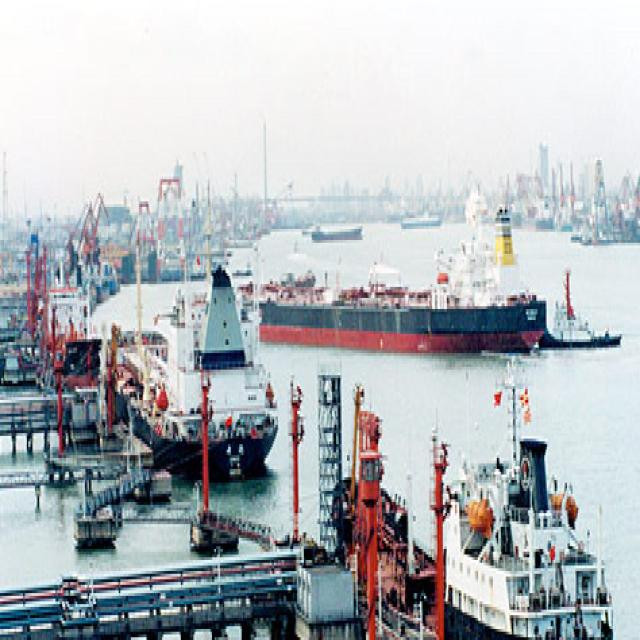cargoship: (254, 214, 538, 375)
houseboat: (538, 278, 619, 370)
passenger ship: (432, 400, 598, 640)
